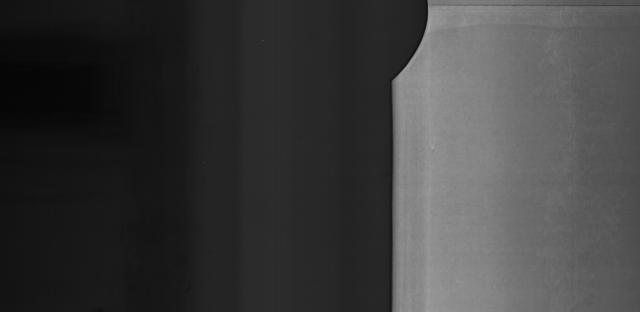crescent_gap: (378, 1, 442, 89)
